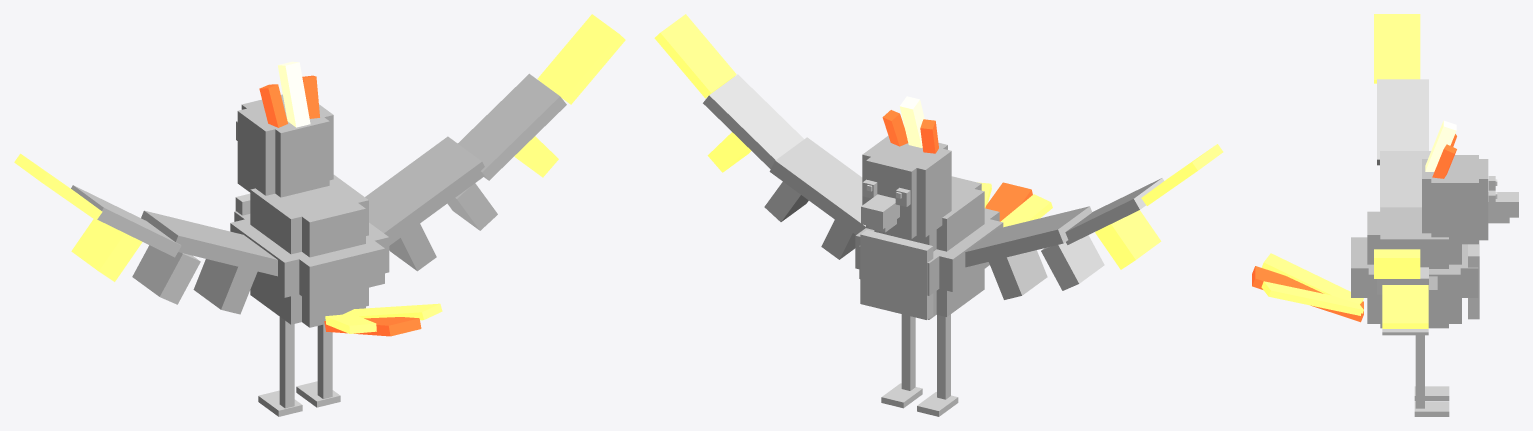
Rendered from MagmaPhoenix.fbx.
3 renders of one model, left to right at view 1: azimuth 30°, elevation 25°; view 2: azimuth 150°, elevation 25°; view 3: azimuth 270°, elevation 25°, orthographic. The views are drawn at different scales.
Parts seen in each view (by area): view 1: Magma Phoenix_wingR_20, Magma Phoenix_wingR_22, Magma Phoenix_body_5, Magma Phoenix_body_3, Magma Phoenix_wingR_24, Magma Phoenix_wingL_21, Magma Phoenix_body_4, Magma Phoenix_head_10, Magma Phoenix_body_2, Magma Phoenix_wingL_31, Magma Phoenix_wingL_29, Magma Phoenix_wingL_27 (+20 smaller); view 2: Magma Phoenix_body_6, Magma Phoenix_wingR_20, Magma Phoenix_wingR_22, Magma Phoenix_wingL_21, Magma Phoenix_wingR_24, Magma Phoenix_head_10, Magma Phoenix_head_9, Magma Phoenix_body_2, Magma Phoenix_wingL_31, Magma Phoenix_body_4, Magma Phoenix_wingL_29, Magma Phoenix_wingL_27 (+20 smaller); view 3: Magma Phoenix_wingL_23, Magma Phoenix_wingL_25, Magma Phoenix_wingL_21, Magma Phoenix_head_9, Magma Phoenix_wingR_30, Magma Phoenix_body_4, Magma Phoenix_body_3, Magma Phoenix_body_5, Magma Phoenix_head_10, Magma Phoenix_body_2, Magma Phoenix_tail_33, Magma Phoenix_head_7 (+15 smaller).
Boxes of the visible parts, <box> form: Magma Phoenix_wingR_20: <box>365,136,484,245</box>; Magma Phoenix_wingR_22: <box>458,73,566,180</box>; Magma Phoenix_body_5: <box>272,183,365,257</box>; Magma Phoenix_body_3: <box>234,211,384,301</box>; Magma Phoenix_wingR_24: <box>537,14,625,104</box>; Magma Phoenix_wingL_21: <box>141,210,277,276</box>; Magma Phoenix_body_4: <box>250,175,368,254</box>; Magma Phoenix_head_10: <box>241,94,329,169</box>; Magma Phoenix_body_2: <box>230,218,389,297</box>; Magma Phoenix_wingL_31: <box>71,219,142,281</box>; Magma Phoenix_wingL_29: <box>132,245,200,304</box>; Magma Phoenix_wingL_27: <box>193,259,257,314</box>; Magma Phoenix_body_6: <box>860,230,933,319</box>; Magma Phoenix_wingR_20: <box>769,137,865,234</box>; Magma Phoenix_wingR_22: <box>703,74,803,169</box>; Magma Phoenix_wingL_21: <box>965,206,1092,267</box>; Magma Phoenix_wingR_24: <box>654,14,736,98</box>; Magma Phoenix_head_10: <box>866,142,947,205</box>; Magma Phoenix_head_9: <box>862,135,951,203</box>; Magma Phoenix_body_2: <box>855,218,1003,291</box>; Magma Phoenix_wingL_31: <box>1095,210,1161,269</box>; Magma Phoenix_body_4: <box>874,183,984,251</box>; Magma Phoenix_wingL_29: <box>1041,235,1104,290</box>; Magma Phoenix_wingL_27: <box>989,250,1047,299</box>; Magma Phoenix_wingL_23: <box>1377,79,1428,165</box>; Magma Phoenix_wingL_25: <box>1374,14,1420,83</box>; Magma Phoenix_wingL_21: <box>1380,151,1430,211</box>; Magma Phoenix_head_9: <box>1431,155,1478,213</box>; Magma Phoenix_wingR_30: <box>1382,285,1428,328</box>; Magma Phoenix_body_4: <box>1380,207,1448,268</box>; Magma Phoenix_body_3: <box>1351,237,1478,297</box>; Magma Phoenix_body_5: <box>1367,211,1461,264</box>; Magma Phoenix_head_10: <box>1422,159,1488,209</box>; Magma Phoenix_body_2: <box>1368,264,1460,304</box>; Magma Phoenix_tail_33: <box>1261,281,1363,315</box>; Magma Phoenix_head_7: <box>1431,213,1478,244</box>.
Bounding box in the file's own units: 491 × 268 × 230.
